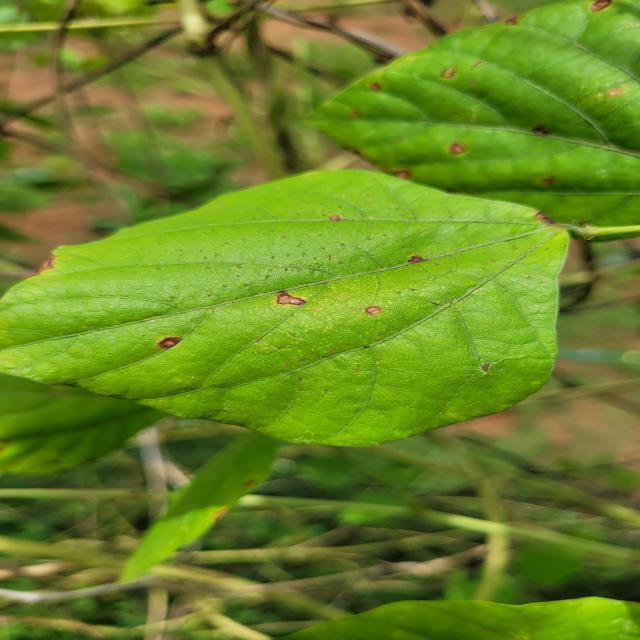Dolicos bean_cercospora leaf spot: (0, 165, 565, 448), (291, 0, 640, 231)
